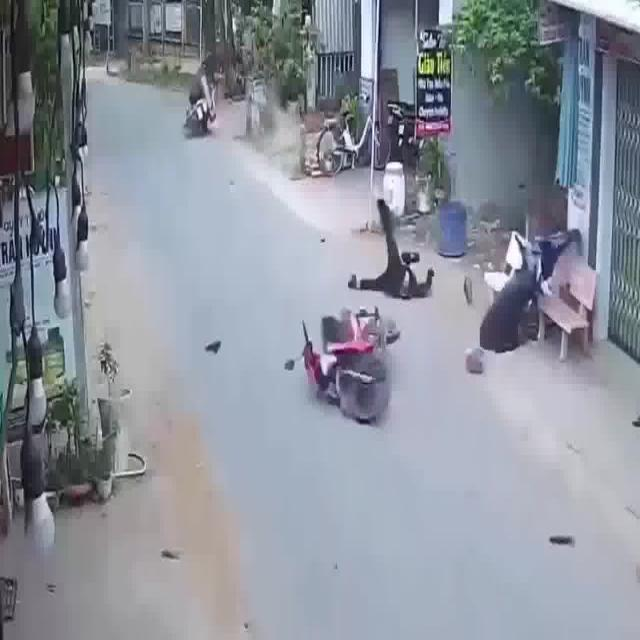multiple_accident: (276, 180, 584, 436), (178, 52, 224, 145)
